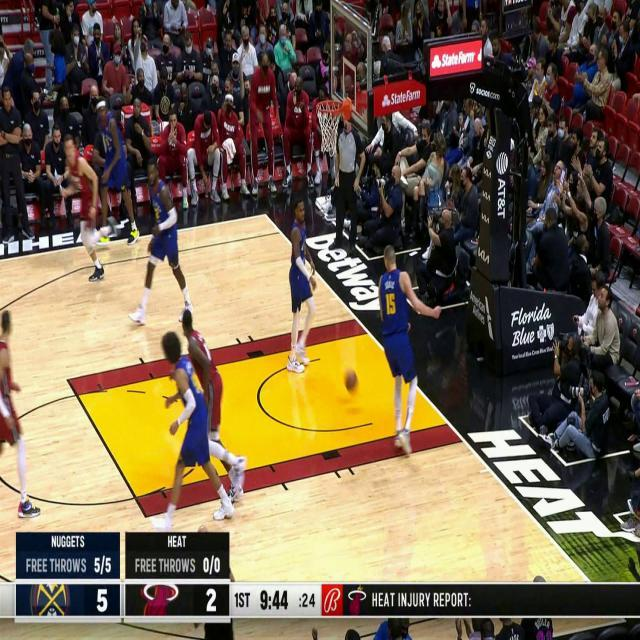rim: (344, 367, 358, 392)
